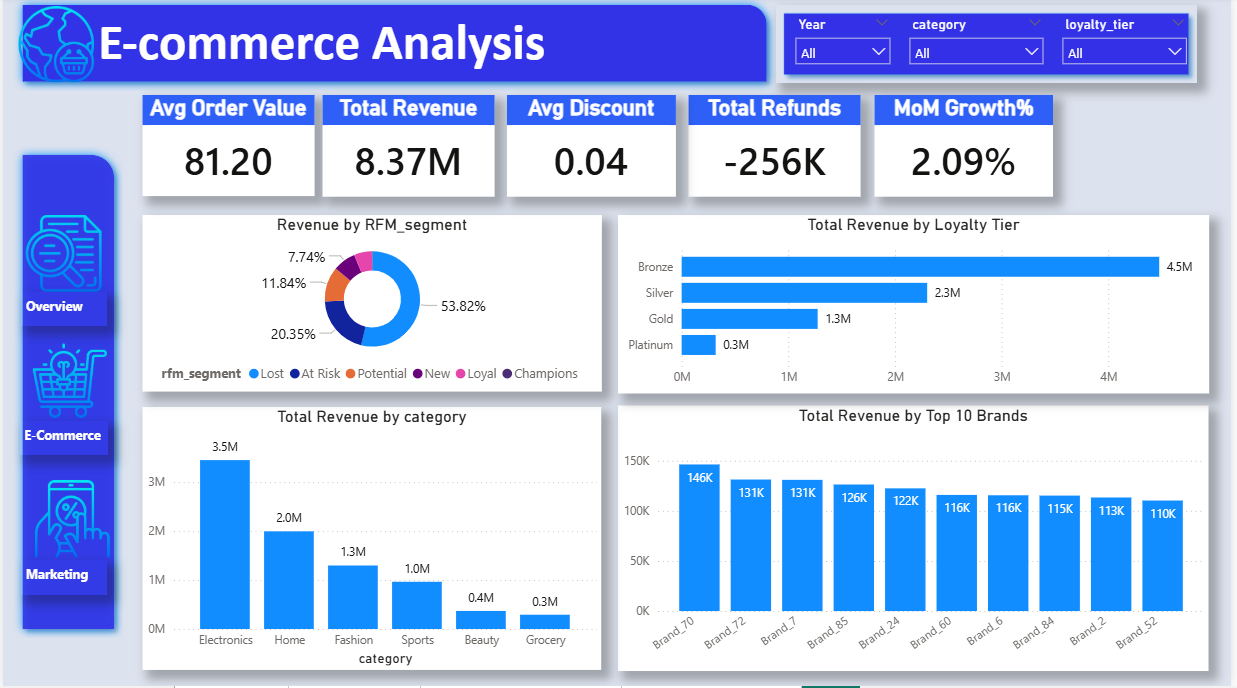

The dashboard page shown, as its layout file describes it:
{"tool":"powerbi","page":{"name":"final e commerce","canvas":[1280,720],"ordinal":2},"visuals":[{"type":"shape","box":[10.9,156.3,114.1,512.7],"z":0},{"type":"shape","box":[10.9,0,794,98.5],"z":1000},{"type":"image","box":[12.5,228.2,101.6,79.7],"z":2000},{"type":"image","box":[20.3,359.5,98.5,82.8],"z":3000},{"type":"image","box":[17.2,501.7,107.8,86],"z":4000},{"type":"textbox","box":[18.8,307.9,89.1,35.9],"z":5000},{"type":"textbox","box":[17.2,442.3,92.2,35.9],"z":6000},{"type":"textbox","box":[18.8,587.7,89.1,35.9],"z":7000},{"type":"columnChart","title":"Total Revenue by Top 10 Brands","fields":{"Category":["products.brand"],"Y":["transactions.Total Revenue"]},"box":[641.3,426.2,615.4,276.9],"z":8000},{"type":"columnChart","fields":{"Y":["transactions.Total Revenue"],"Category":["products.category"]},"box":[145.5,429,478.1,274],"z":9000},{"type":"donutChart","title":"Revenue by RFM_segment","fields":{"Y":["Sum(transactions.gross_revenue)"],"Category":["customers.rfm_segment"]},"box":[145.1,227.5,478.4,184.3],"z":10000},{"type":"barChart","title":"Total Revenue by Loyalty Tier","fields":{"Category":["customers.loyalty_tier"],"Y":["Sum(transactions.gross_revenue)"]},"box":[641.2,227.5,615.7,186.3],"z":11000},{"type":"shape","box":[804.9,9.4,439.2,81.3],"z":12000},{"type":"slicer","fields":{"Values":["Date Table.Year"]},"box":[815.9,15.6,118.8,68.8],"z":13000},{"type":"slicer","fields":{"Values":["products.category"]},"box":[934.7,15.6,159.4,68.8],"z":14000},{"type":"cardVisual","title":"Avg Order Value","fields":{"Data":["transactions.Avg Order Value"]},"box":[145.4,103.6,179.3,105.6],"z":15000},{"type":"cardVisual","title":"Total Revenue","fields":{"Data":["transactions.Total Revenue"]},"box":[332.6,103.9,179.5,105.8],"z":16000},{"type":"cardVisual","title":"Total Refunds","fields":{"Data":["transactions.Total Refunds"]},"box":[714.3,103.9,179.5,105.8],"z":17000},{"type":"cardVisual","title":"Avg Discount","fields":{"Data":["transactions.Avg Discount"]},"box":[525.4,103.9,175.7,105.8],"z":18000},{"type":"cardVisual","title":"MoM Growth%","fields":{"Data":["transactions.MoM Growth %"]},"box":[907.8,103.9,186.3,105.9],"z":19000},{"type":"textbox","box":[25,9.4,614.3,79.7],"z":20000},{"type":"image","box":[1.6,7.8,107.8,84.4],"z":21000},{"type":"slicer","fields":{"Values":["customers.loyalty_tier"]},"box":[1094.2,15.1,149.3,68],"z":22000}]}

Visuals, with their boxes in screenshot pixels (x1, y1, x2, y2), scaled from the page's 1280x720 canvas onto the 1237x688 screenshot:
shape: (left=11, top=149, right=121, bottom=639)
shape: (left=11, top=0, right=778, bottom=94)
image: (left=12, top=218, right=110, bottom=294)
image: (left=20, top=344, right=115, bottom=423)
image: (left=17, top=479, right=121, bottom=562)
textbox: (left=18, top=294, right=104, bottom=329)
textbox: (left=17, top=423, right=106, bottom=457)
textbox: (left=18, top=562, right=104, bottom=596)
"Total Revenue by Top 10 Brands" columnChart: (left=620, top=407, right=1214, bottom=672)
columnChart - transactions.Total Revenue x products.category: (left=141, top=410, right=603, bottom=672)
"Revenue by RFM_segment" donutChart: (left=140, top=217, right=603, bottom=393)
"Total Revenue by Loyalty Tier" barChart: (left=620, top=217, right=1215, bottom=395)
shape: (left=778, top=9, right=1202, bottom=87)
slicer - Date Table.Year: (left=788, top=15, right=903, bottom=81)
slicer - products.category: (left=903, top=15, right=1057, bottom=81)
"Avg Order Value" cardVisual: (left=141, top=99, right=314, bottom=200)
"Total Revenue" cardVisual: (left=321, top=99, right=495, bottom=200)
"Total Refunds" cardVisual: (left=690, top=99, right=864, bottom=200)
"Avg Discount" cardVisual: (left=508, top=99, right=678, bottom=200)
"MoM Growth%" cardVisual: (left=877, top=99, right=1057, bottom=200)
textbox: (left=24, top=9, right=618, bottom=85)
image: (left=2, top=7, right=106, bottom=88)
slicer - customers.loyalty_tier: (left=1057, top=14, right=1202, bottom=79)
